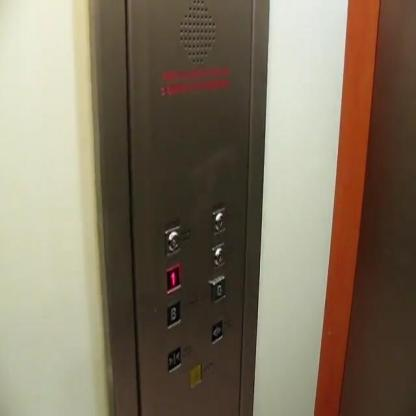1: (163, 263, 181, 293)
B: (165, 299, 180, 330)
G: (207, 274, 226, 302)
blur: (187, 363, 202, 388)
close: (165, 345, 182, 373)
keyhole: (163, 225, 180, 256), (211, 205, 227, 235), (212, 241, 225, 267)
open: (208, 319, 223, 345)
